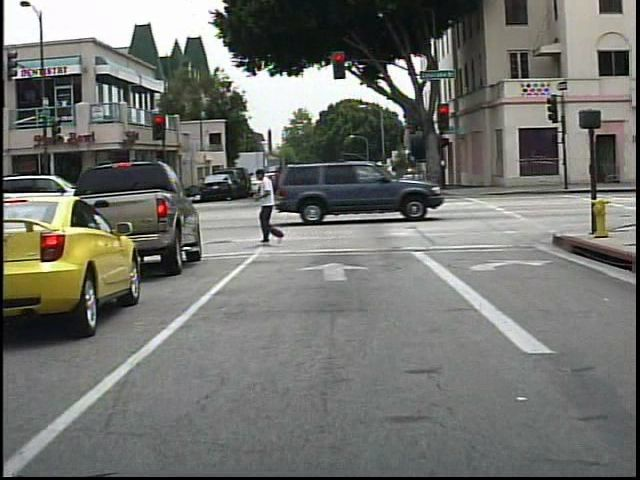person: (250, 165, 291, 248), (267, 165, 294, 208)
